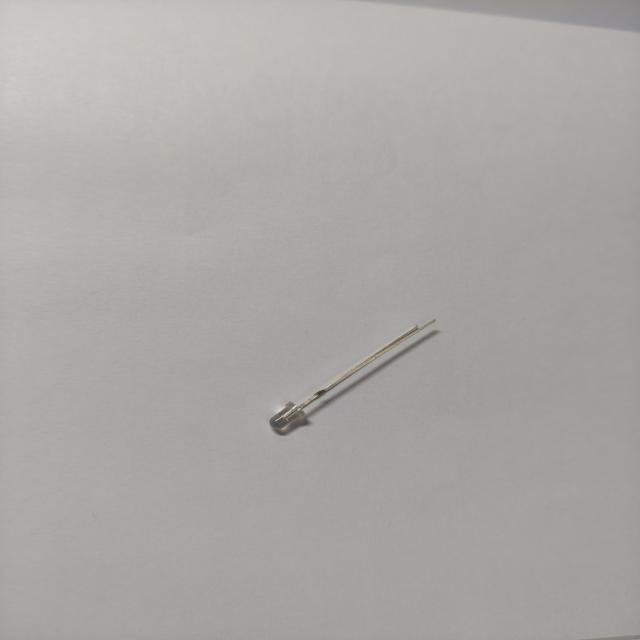led: (256, 304, 454, 446)
